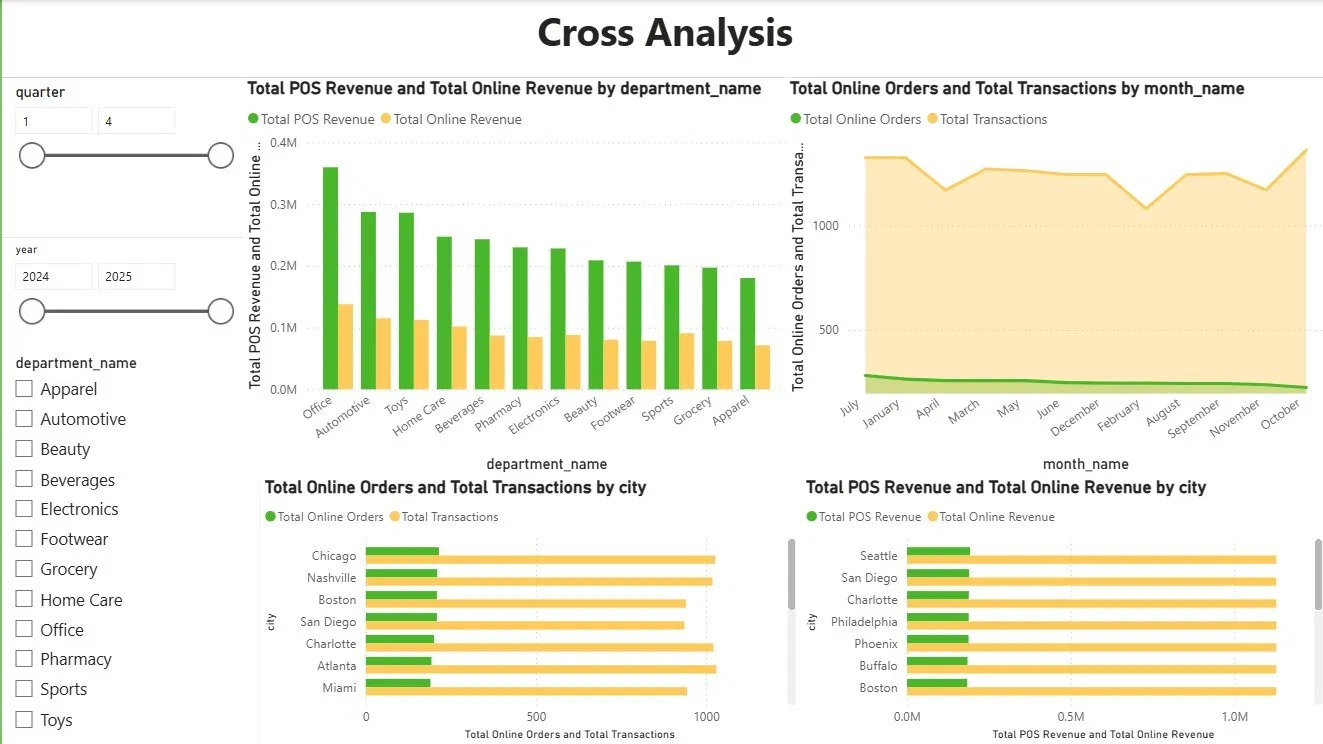

The page's visual inventory and layout, read from the dashboard file:
{"tool":"powerbi","page":{"name":"Cross- Analysis","canvas":[1280,720],"ordinal":4},"visuals":[{"type":"slicer","fields":{"Values":["gold dim_product.department_name"]},"box":[0,336.6,248.5,383.6],"z":0},{"type":"slicer","fields":{"Values":["gold dim_date.quarter"]},"box":[0,74.8,231.6,154.4],"z":1000},{"type":"slicer","fields":{"Values":["gold dim_date.year"]},"box":[0,229.2,231.6,107.4],"z":2000},{"type":"textbox","box":[0,0,1280,74.8],"z":3000},{"type":"lineClusteredColumnComboChart","fields":{"Category":["gold dim_product.department_name"],"Y":["Measures (2).Total POS Revenue","Measures (2).Total Online Revenue"]},"box":[231.4,74.3,530,385.7],"z":4000},{"type":"areaChart","fields":{"Category":["gold dim_date.month_name"],"Y":["Measures (2).Total Online Orders","Measures (2).Total Transactions"]},"box":[755.7,74.3,524.3,385.7],"z":5000},{"type":"clusteredBarChart","fields":{"Category":["gold dim_customer.city"],"Y":["Measures (2).Total Online Orders","Measures (2).Total Transactions"]},"box":[248.6,460,522.9,260],"z":6000},{"type":"clusteredBarChart","fields":{"Category":["gold dim_store.region Hierarchy.city"],"Y":["Measures (2).Total POS Revenue","Measures (2).Total Online Revenue"]},"box":[771,460,509,260],"z":7000}]}

Visuals, with their boxes in screenshot pixels (x1, y1, x2, y2), scaled from the page's 1280x720 canvas onto the 1323x744 screenshot:
slicer - gold dim_product.department_name: (x1=0, y1=348, x2=257, y2=743)
slicer - gold dim_date.quarter: (x1=0, y1=77, x2=239, y2=237)
slicer - gold dim_date.year: (x1=0, y1=237, x2=239, y2=348)
textbox: (x1=0, y1=0, x2=1322, y2=77)
lineClusteredColumnComboChart - gold dim_product.department_name x Measures (2).Total POS Revenue: (x1=239, y1=77, x2=787, y2=475)
areaChart - gold dim_date.month_name x Measures (2).Total Online Orders: (x1=781, y1=77, x2=1322, y2=475)
clusteredBarChart - gold dim_customer.city x Measures (2).Total Online Orders: (x1=257, y1=475, x2=797, y2=743)
clusteredBarChart - gold dim_store.region Hierarchy.city x Measures (2).Total POS Revenue: (x1=797, y1=475, x2=1322, y2=743)
